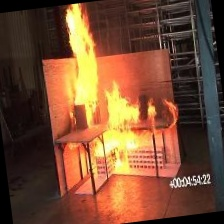fire: (43, 0, 185, 185)
